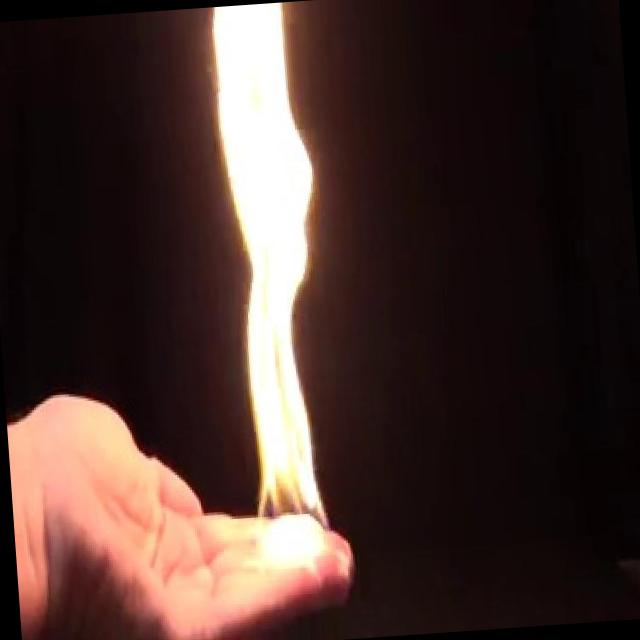Fire: (190, 0, 350, 570)
